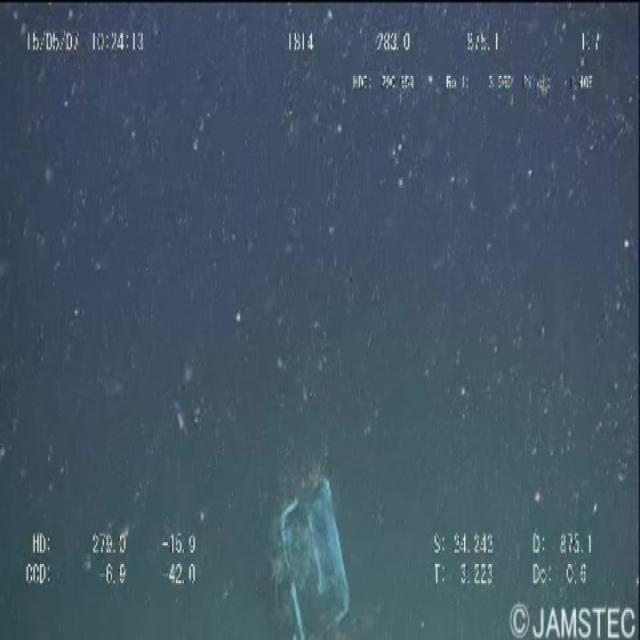Cutlery: (250, 448, 374, 636)
